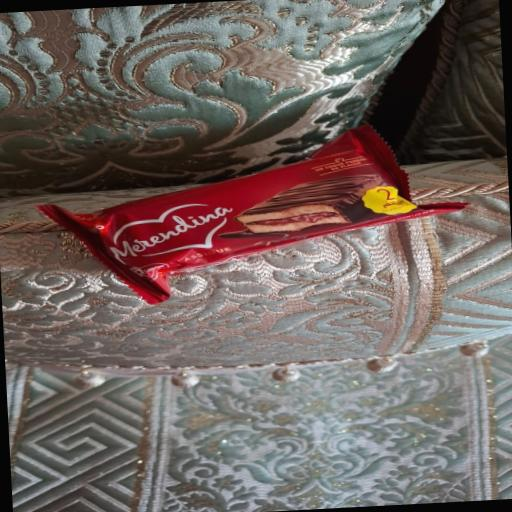merendina: (54, 126, 467, 320)
